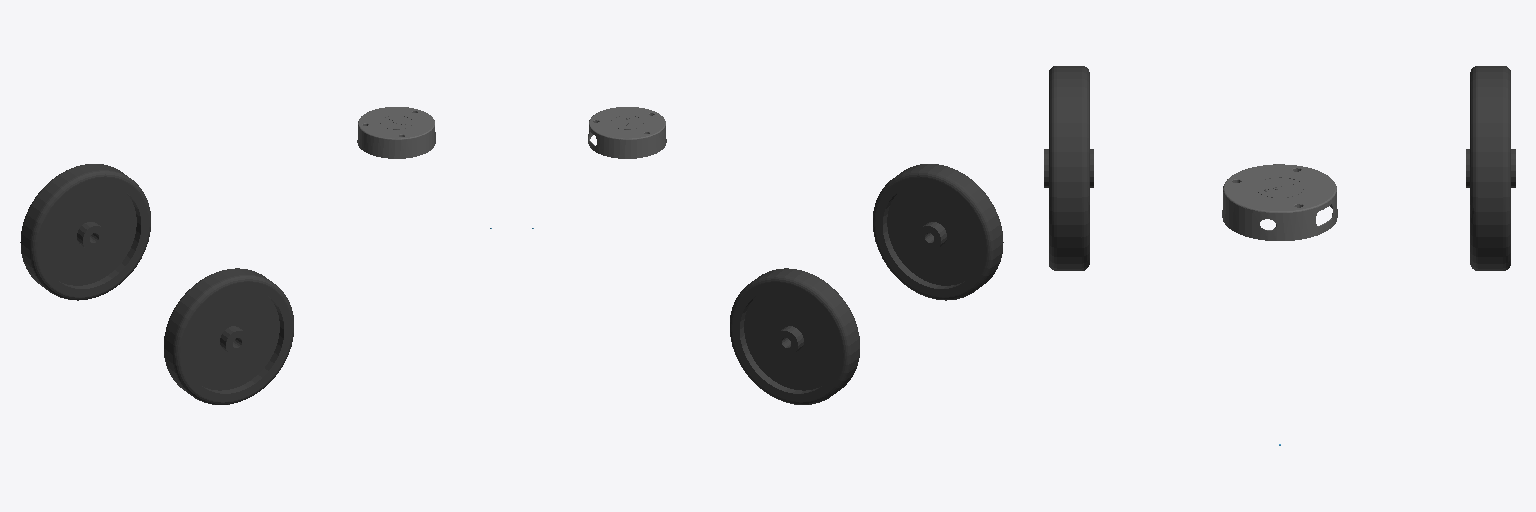
The robot description file, URDF, robot "pegasus_mini":
<?xml version="1.0" encoding="utf-8"?>
<robot
  name="pegasus_mini">
  <link
    name="base_link">
    <inertial>
      <origin
        xyz="0.2 0.00100384888904426 0.0291653156426118"
        rpy="0 0 0" />
      <mass
        value="3.10942485851605" />
      <inertia
        ixx="0.009967506563368"
        ixy="-1.75362440797118E-07"
        ixz="3.30883914944428E-06"
        iyy="0.0193424468245618"
        iyz="-4.83041311800311E-07"
        izz="0.0266448037820947" />
    </inertial>
    <visual>
      <origin
        xyz="0 0 0"
        rpy="0 0 0" />
      <geometry>
        <mesh
          filename="package://pegasus_base/meshes/base_link.dae" />
      </geometry>
      <material
        name="">
        <color
          rgba="0.792156862745098 0.819607843137255 0.933333333333333 1" />
      </material>
    </visual>
    <collision>
      <origin
        xyz="0.08 0 0.03125"
        rpy="1.5707 0 0" />
      <geometry>
              <box size="0.45 0.12 0.34"/>

      </geometry>
    </collision>
  </link>
  <link name="frontcastor">
   
  <visual>
    <origin 
      xyz="0.15 0 0"
      rpy="1.5707 0 0"/>

    <geometry>
      <box size="0.001 0.001 0.001"/>
    </geometry>

  </visual>

  <collision>
    <origin 
      xyz="0 0 0"
      rpy="1.5707 0 0"/>

    <geometry>
      <cylinder length="0.02" radius="0.0375"/>
    </geometry>
  </collision>

</link>


<joint
    name="frontcastor_joint"
    type="continuous">
    <origin
      xyz="0.194 0 -0.025"
      rpy="0 0 0" />
    <parent
      link="base_link" />
    <child
      link="frontcastor" />
    <axis
      xyz="0 1 0" />
</joint>
  



  <link
    name="leftwheel_link">
    <inertial>
      <origin
        xyz="-5.72225387474662E-15 5.64825963778048E-15 -1.06852380645045E-16"
        rpy="0 0 0" />
      <mass
        value="0.232013920708616" />
      <inertia
        ixx="0.000277320036972709"
        ixy="-1.20216774398711E-17"
        ixz="-1.01007354824876E-32"
        iyy="0.000538249657591165"
        iyz="1.19367335965887E-19"
        izz="0.000277320036972708" />
    </inertial>
    <visual>
      <origin
        xyz="0 0 0"
        rpy="1.5707 0 0" />
      <geometry>
        <mesh
          filename="package://pegasus_base/meshes/leftwheel_link.dae" />
      </geometry>
      <material
        name="">
        <color
          rgba="0.298039215686275 0.298039215686275 0.298039215686275 1" />
      </material>
    </visual>
    <collision>
      <origin
        xyz="0 0 0"
        rpy="1.5707 0 0" />
      <geometry>
        <cylinder length="0.02" radius="0.0625"/>

      </geometry>
    </collision>
  </link>
     
  <joint
    name="leftwheel_joint"
    type="continuous">
    <origin
      xyz="0 0.1279 0"
      rpy="0 0 0" />
    <parent
      link="base_link" />
    <child
      link="leftwheel_link" />
    <axis
      xyz="0 1 0" />
  </joint>
     
  <link
    name="rightwheel_link">
    <inertial>
      <origin
        xyz="-2.29870205968863E-18 5.20417042793042E-15 1.60744195424908E-16"
        rpy="0 0 0" />
      <mass
        value="0.232013920708616" />
      <inertia
        ixx="0.000277320036972709"
        ixy="-3.80177089528946E-20"
        ixz="5.2352935655391E-36"
        iyy="0.000538249657591166"
        iyz="4.45769783655849E-20"
        izz="0.000277320036972709" />
    </inertial>
    <visual>
      <origin
        xyz="0 0 0"
        rpy="1.5707 0 0" />
      <geometry>
        <mesh
          filename="package://pegasus_base/meshes/rightwheel_link.dae" />
      </geometry>
      <material
        name="">
        <color
          rgba="0.298039215686275 0.298039215686275 0.298039215686275 1" />
      </material>
    </visual>
    <collision>
      <origin
        xyz="0 0 0"
        rpy="1.5707 0 0" />
      <geometry>
            <cylinder length="0.02" radius="0.0625"/>
      </geometry>
    </collision>
  </link>
     
  <joint
    name="rightwheel_joint"
    type="continuous">
    <origin
      xyz="0 -0.1279 0"
      rpy="0 0 0" />
    <parent
      link="base_link" />
    <child
      link="rightwheel_link" />
    <axis
      xyz="0 1 0" />
  </joint>
     
  <link
    name="laser">
    <inertial>
      <origin
        xyz="0.166389887141163 0.121618364229734 0.0967069926939433"
        rpy="0 0 0" />
      <mass
        value="0.00676512405731958" />
      <inertia
        ixx="3.01336664603449E-06"
        ixy="-2.44109847691184E-08"
        ixz="-2.10743854970194E-08"
        iyy="3.11861951022779E-06"
        iyz="-1.45111080099309E-08"
        izz="5.59775679030702E-06" />
    </inertial>
    <visual>
      <origin
        xyz="0 0 0.00402"
        rpy="-1.5707 0 -1.149" />
      <geometry>
        <mesh
          filename="package://pegasus_base/meshes/lidar.dae" />
      </geometry>
      <material
        name="">
        <color
          rgba="0.43921568627451 0.43921568627451 0.43921568627451 1" />
      </material>
    </visual>
    <collision>
      <origin
        xyz="0 0 0"
        rpy="0 0 0" />
      <geometry>
         <cylinder length="0.025" radius="0.035"/>

      </geometry>
    </collision>
  </link>
     
  <joint
    name="laser_joint"
    type="fixed">
    <origin
      xyz="0.24679 0 0.098"
      rpy="0 0 3.1415" /> <!-- Rotate Laser Frame about 180 about z to match RPLidar defualt laser frame -->
    <parent
      link="base_link" />
    <child
      link="laser" />
    <axis
      xyz="0 0 0" />
  </joint>
       <gazebo reference="laser">
    <sensor type="gpu_ray" name="head_hokuyo_sensor">
      <pose>0 0 0 0 0 0</pose>
      <visualize>true</visualize>
      <update_rate>20</update_rate>
      <ray>
        <scan>
          <horizontal>
            <samples>720</samples>
            <resolution>1</resolution>
            <min_angle>-3.1467</min_angle>
            <max_angle>3.1467</max_angle>
          </horizontal>
        </scan>
        <range>
          <min>0.10</min>
          <max>12.0</max>
          <resolution>0.01</resolution>
        </range>
        <noise>
          <type>gaussian</type>
          <mean>0.0</mean>
          <stddev>0.01</stddev>
        </noise>
      </ray>
      <plugin name="gazebo_ros_head_hokuyo_controller" filename="libgazebo_ros_gpu_laser.so">
        <topicName>/scan</topicName>
        <frameName>laser</frameName>
      </plugin>
    </sensor>
  </gazebo>
  
     
    <gazebo>
    <plugin filename="libgazebo_ros_diff_drive.so" name="differential_drive_controller_front">
      <rosDebugLevel>Debug</rosDebugLevel>
      <publishWheelTF>True</publishWheelTF>
      <publishTf>1</publishTf>
      <publishWheelJointState>true</publishWheelJointState>
      <alwaysOn>true</alwaysOn>
      <updateRate>100.0</updateRate>
      <leftJoint>leftwheel_joint</leftJoint>
      <rightJoint>rightwheel_joint</rightJoint>
      <wheelSeparation>0.390</wheelSeparation>
      <wheelDiameter>0.14393</wheelDiameter>
      <broadcastTF>1</broadcastTF>
      <wheelTorque>30</wheelTorque>
      <wheelAcceleration>1.8</wheelAcceleration>
      <commandTopic>cmd_vel</commandTopic>
      <odometryFrame>odom</odometryFrame>
      <odometryTopic>odom</odometryTopic>
      <robotBaseFrame>base_link</robotBaseFrame>
    </plugin>
  </gazebo>
</robot>

--- Facts derived from the render (not from the file) ---
The picture shows the robot from 3 angles, left to right: view 1: azimuth 30°, elevation 25°; view 2: azimuth 150°, elevation 25°; view 3: azimuth 270°, elevation 25°; orthographic projection.
Robot: pegasus_mini — 5 links, 4 joints (3 continuous, 1 fixed); root link base_link; default pose: all joints at 0.
Links seen in each view (by area): view 1: rightwheel_link, leftwheel_link, laser; view 2: leftwheel_link, rightwheel_link, laser; view 3: leftwheel_link, rightwheel_link, laser.
Link boxes in pixels (<box>): rightwheel_link: <box>164,268,293,404</box>; leftwheel_link: <box>20,164,150,300</box>; laser: <box>357,107,435,158</box>; leftwheel_link: <box>730,268,859,404</box>; rightwheel_link: <box>873,164,1003,300</box>; laser: <box>588,107,666,158</box>; leftwheel_link: <box>1466,66,1515,270</box>; rightwheel_link: <box>1044,66,1093,270</box>; laser: <box>1222,164,1337,240</box>.
Size in the robot's own frame: 0.407 by 0.2858 by 0.1643 metres.
Meshes: 4 distinct files referenced, 3 mesh visuals loaded (3 Collada DAE); not drawn: 1 (reference not matched to a file when rendering).